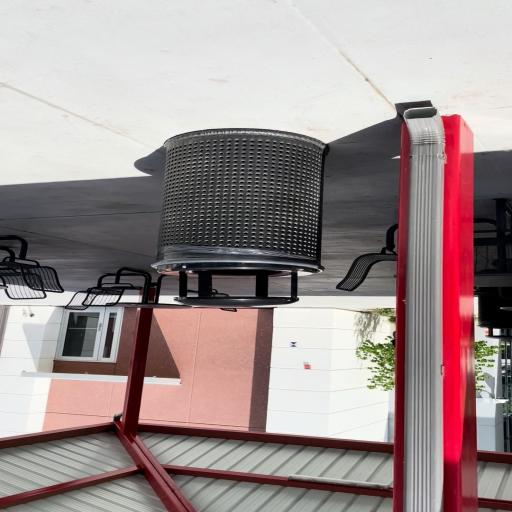target2: (288, 342, 298, 347)
